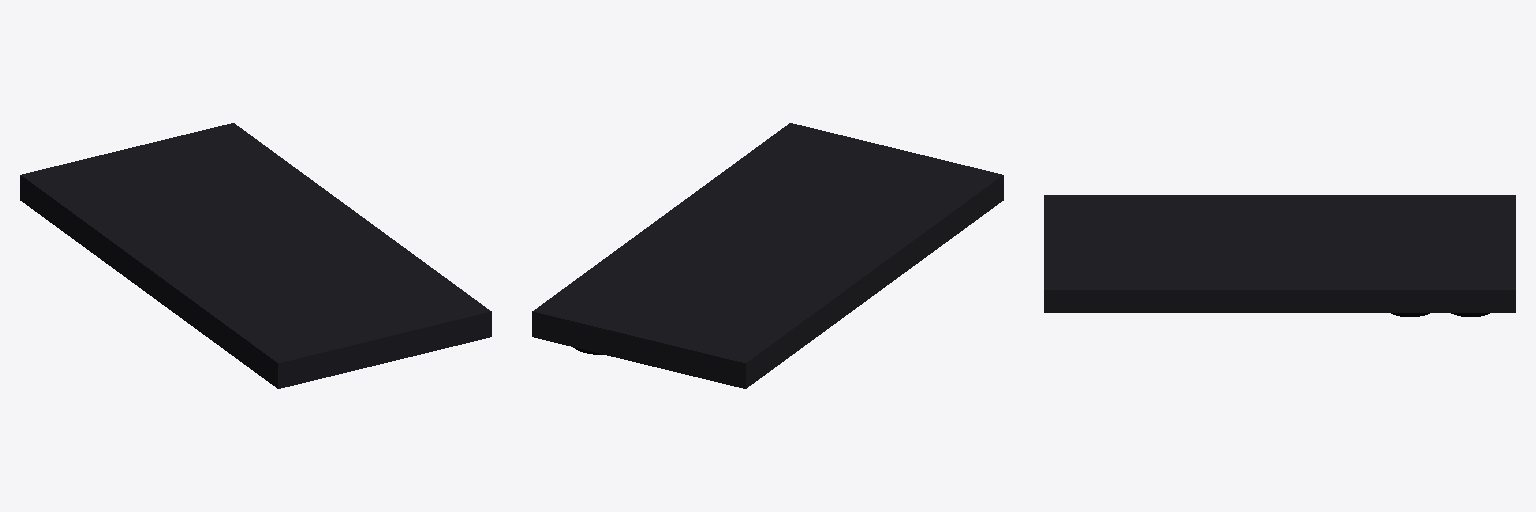
robot.urdf — iphone_16_pro:
<?xml version="1.0"?>
<!-- iPhone 16 Pro: generated by imuninn from Apple's dimensional drawings (iphone-frames dataset). Frames: device = display centre on the front glass (x right, y top, z out of the screen); cam_*_optical = OpenCV axes. Geometry and mass are approximate. -->
<robot name="iphone_16_pro">
  <material name="iphone_body">
    <color rgba="0.15 0.15 0.17 1" />
  </material>
  <material name="iphone_lens">
    <color rgba="0.05 0.05 0.06 1" />
  </material>
  <link name="device">
    <visual name="body">
      <origin xyz="7.10542736e-18 -1.42108547e-17 -0.004125" rpy="0 0 0" />
      <geometry>
        <box size="0.07145 0.14961 0.00825" />
      </geometry>
      <material name="iphone_body" />
    </visual>
    <collision name="body">
      <origin xyz="7.10542736e-18 -1.42108547e-17 -0.004125" rpy="0 0 0" />
      <geometry>
        <box size="0.07145 0.14961 0.00825" />
      </geometry>
    </collision>
    <visual name="lens_ultra_wide">
      <origin xyz="0.021555 0.060635 -0.01039" rpy="0 0 0" />
      <geometry>
        <cylinder radius="0.0081" length="0.00428" />
      </geometry>
      <material name="iphone_lens" />
    </visual>
    <visual name="lens_main">
      <origin xyz="0.021555 0.041395 -0.01039" rpy="0 0 0" />
      <geometry>
        <cylinder radius="0.0081" length="0.00428" />
      </geometry>
      <material name="iphone_lens" />
    </visual>
    <visual name="lens_telephoto">
      <origin xyz="0.003545 0.051015 -0.01039" rpy="0 0 0" />
      <geometry>
        <cylinder radius="0.0081" length="0.00428" />
      </geometry>
      <material name="iphone_lens" />
    </visual>
    <inertial>
      <origin xyz="7.10542736e-18 -1.42108547e-17 -0.004125" rpy="0 0 0" />
      <mass value="0.203" />
      <inertia ixx="0.0003798" ixy="0" ixz="0" iyy="8.75127e-05" iyz="0" izz="0.00046501" />
    </inertial>
  </link>
  <link name="magsafe" />
  <joint name="device_to_magsafe" type="fixed">
    <parent link="device" />
    <child link="magsafe" />
    <origin xyz="5e-06 -0.000245 -0.00825" rpy="3.14159265 0 3.14159265" />
  </joint>
  <link name="cam_ultra_wide_optical" />
  <joint name="device_to_cam_ultra_wide_optical" type="fixed">
    <parent link="device" />
    <child link="cam_ultra_wide_optical" />
    <origin xyz="0.021555 0.060635 -0.01253" rpy="3.14159265 0 -1.57079633" />
  </joint>
  <link name="cam_main_optical" />
  <joint name="device_to_cam_main_optical" type="fixed">
    <parent link="device" />
    <child link="cam_main_optical" />
    <origin xyz="0.021555 0.041395 -0.01253" rpy="3.14159265 0 -1.57079633" />
  </joint>
  <link name="cam_telephoto_optical" />
  <joint name="device_to_cam_telephoto_optical" type="fixed">
    <parent link="device" />
    <child link="cam_telephoto_optical" />
    <origin xyz="0.003545 0.051015 -0.01253" rpy="3.14159265 0 -1.57079633" />
  </joint>
  <link name="cam_front_optical" />
  <joint name="device_to_cam_front_optical" type="fixed">
    <parent link="device" />
    <child link="cam_front_optical" />
    <origin xyz="0.007315 0.067015 0" rpy="0 0 1.57079633" />
  </joint>
  <link name="imu" />
  <joint name="device_to_imu" type="fixed">
    <parent link="device" />
    <child link="imu" />
    <origin xyz="0 0 0" rpy="0 0 0" />
  </joint>
</robot>

--- Render facts (derived) ---
Views: 3 orthographic renders of the robot side by side, from view 1: azimuth 30°, elevation 25°; view 2: azimuth 150°, elevation 25°; view 3: azimuth 270°, elevation 25°.
Robot: iphone_16_pro — 7 links, 6 joints (6 fixed); root link device; default pose: all joints at 0.
Visible links, largest first — view 1: device; view 2: device; view 3: device.
Link boxes in pixels (x1,y1,x2,y2): device: (20,123,491,388); device: (532,123,1003,388); device: (1044,195,1515,316).
Size in the robot's own frame: 0.0715 by 0.1496 by 0.0125 metres.
Geometry: primitives only (box / cylinder / sphere), no mesh files.
